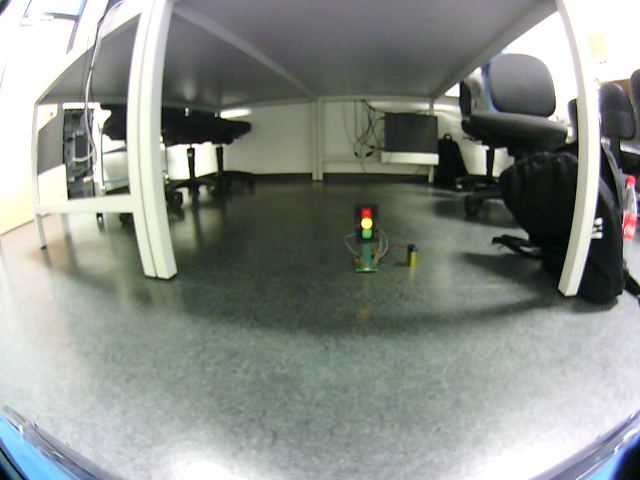yellow trafficlight: (357, 206, 375, 241)
